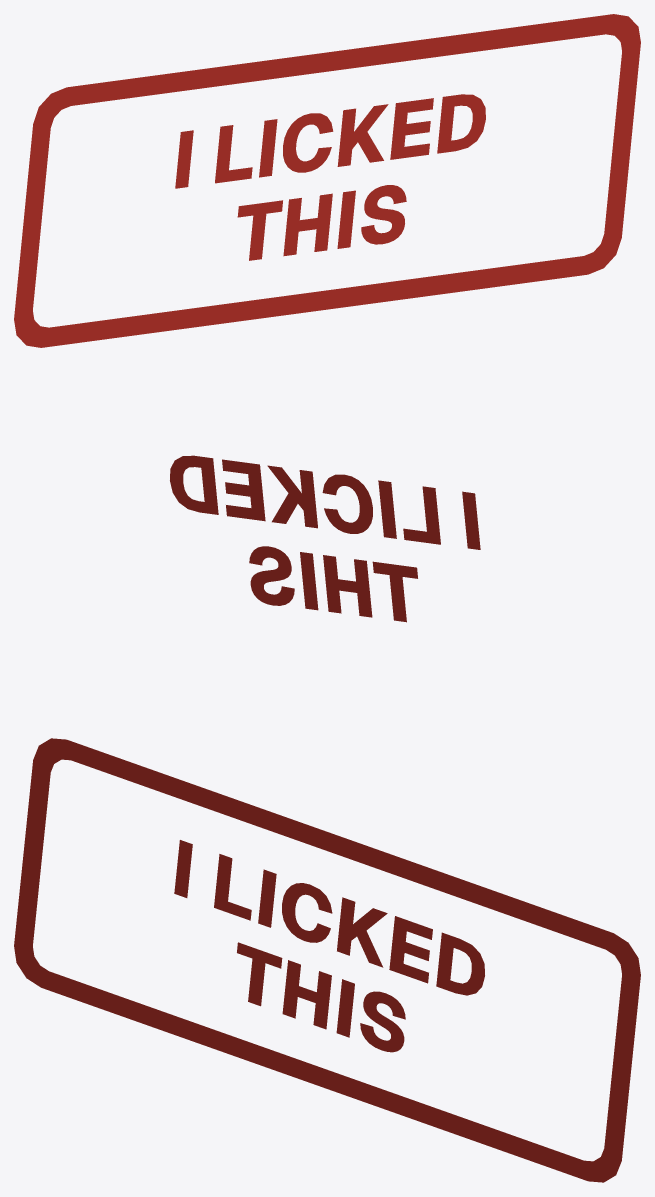
File: stamp-mark-licked.glb
The picture shows the model from 3 angles, top to bottom: view 1: azimuth 30°, elevation 25°; view 2: azimuth 150°, elevation 25°; view 3: azimuth 330°, elevation 25°; orthographic projection.
Parts seen in each view (by area): view 1: stamp-mark-licked; view 2: stamp-mark-licked; view 3: stamp-mark-licked.
Boxes of the visible parts, <box> form: stamp-mark-licked: <box>14,14,640,347</box>; stamp-mark-licked: <box>170,455,480,622</box>; stamp-mark-licked: <box>14,738,640,1182</box>.
Bounding box in the file's own units: 0.4104 × 0.1967 × 0.000501.
